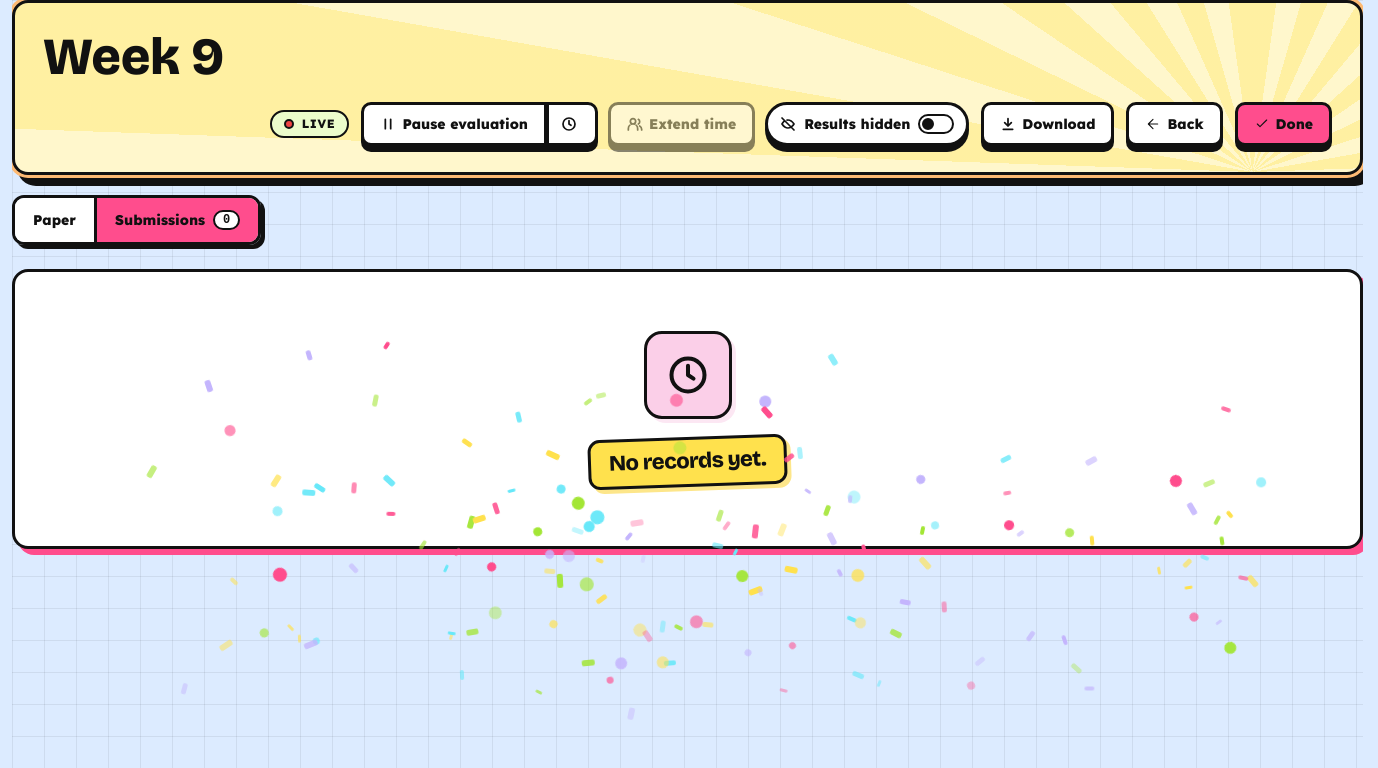
Test: teacher Quiz editor › opens a published quiz on Submissions; its Paper is read-only with Unpublish
The width and height of the screenshot is (1378, 768).
Expected: the heading "No records yet." is shown, [587,434,788,490]
Expected: the text "LIVE" is shown, [302,116,336,132]
Click the tab "Paper".
click(56, 220)  # box [15,198,97,242]
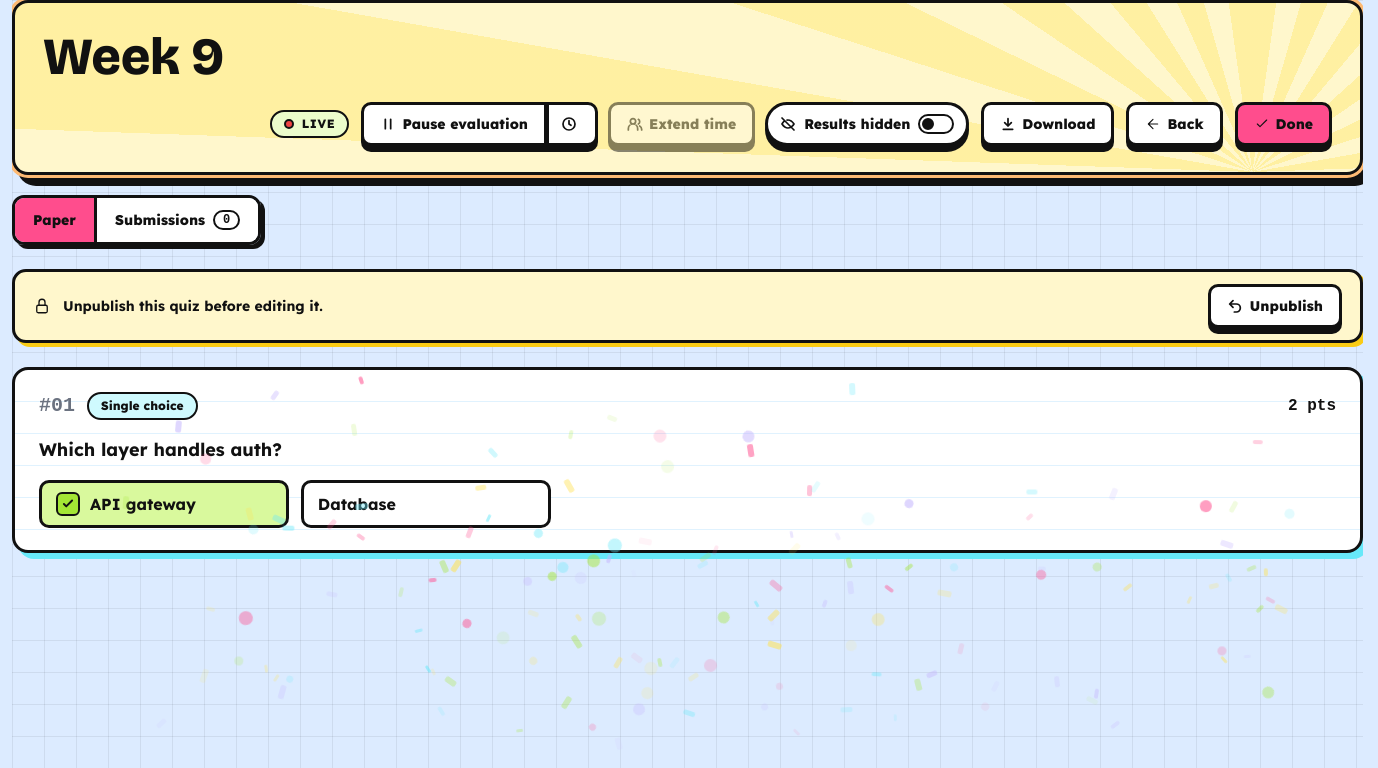
Result: the text "Unpublish this quiz before editing it." is shown at [33,297,323,315]
Result: the text "Which layer handles auth?" is shown at [39,438,282,461]
Result: the button "Unpublish" is shown at [1208,284,1342,328]
